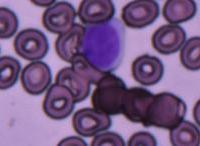L: (80, 18, 125, 72)
